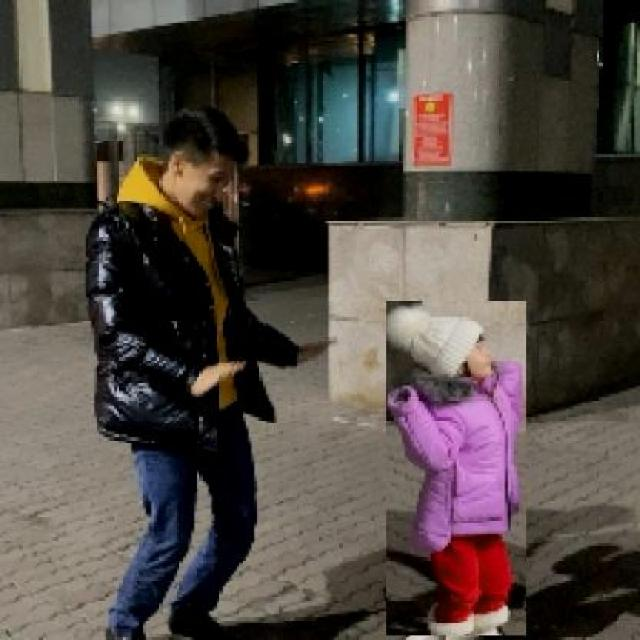child: (385, 300, 526, 637)
